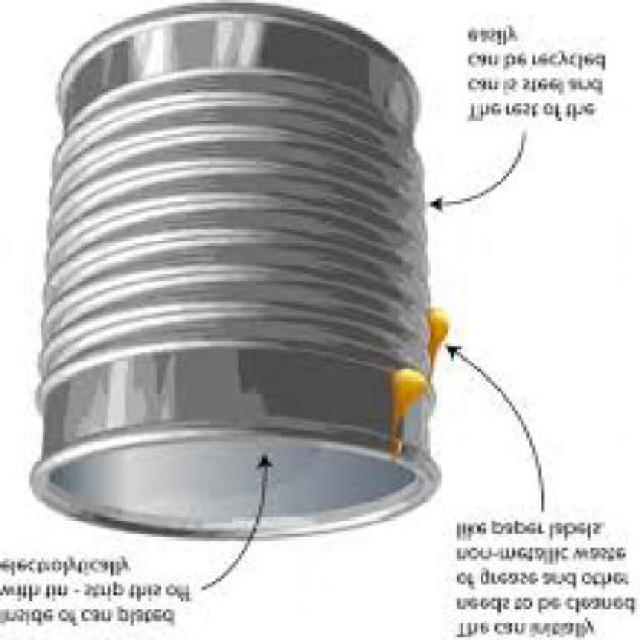METAL: (27, 8, 436, 540)
